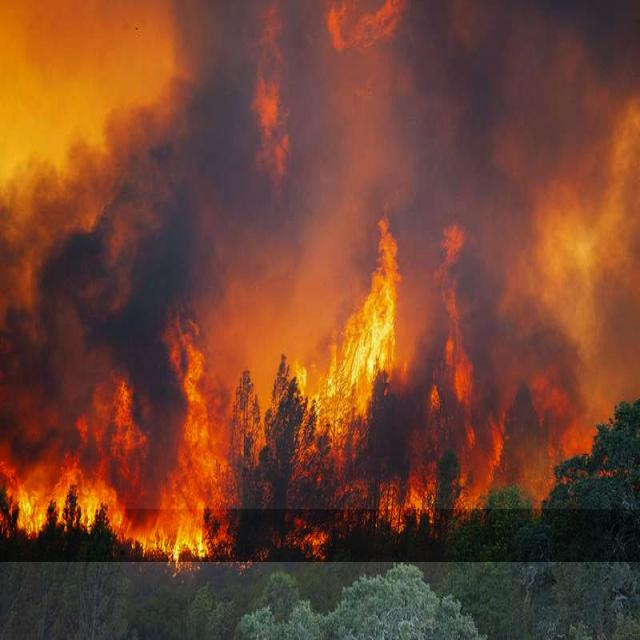Fire: (0, 227, 640, 562)
Smoke: (0, 0, 640, 509)
